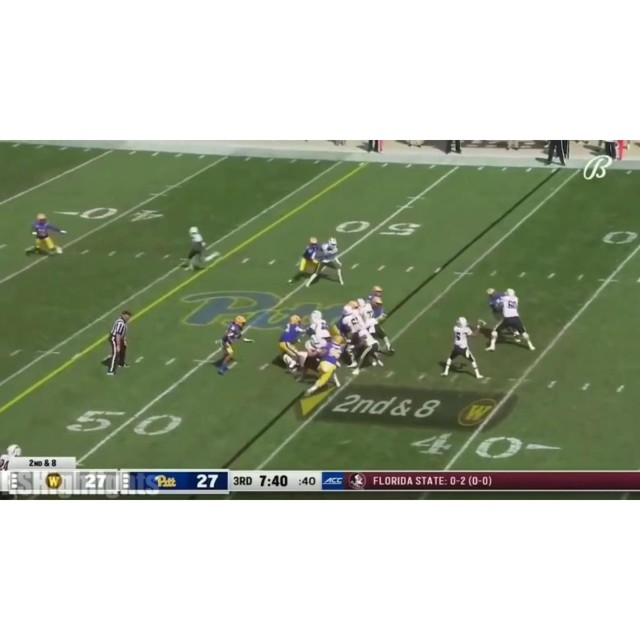american-football-player: (487, 289, 534, 352), (441, 316, 484, 379), (304, 340, 345, 396), (215, 315, 252, 375), (359, 297, 395, 354), (306, 238, 345, 290), (287, 236, 322, 286), (350, 321, 384, 371), (277, 315, 306, 371), (28, 213, 65, 256), (183, 225, 207, 271), (307, 309, 333, 343)
referee: (104, 310, 131, 378)
